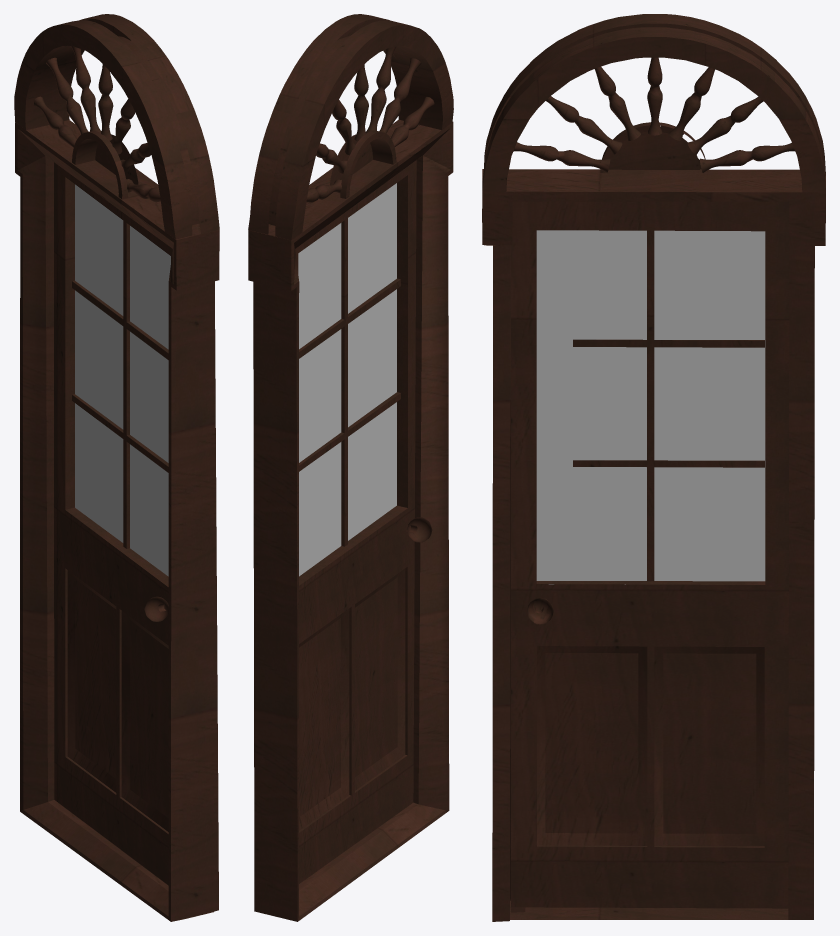
The model's file is balcony_door.fbx.
3 views of the same model, side by side, from view 1: azimuth 30°, elevation 25°; view 2: azimuth 150°, elevation 25°; view 3: azimuth 270°, elevation 25° (orthographic). The views are drawn at different scales.
Visible parts, largest first — view 1: Frame, Leaf, Glass, Arch, Spindles; view 2: Frame, Leaf, Glass, Arch, Spindles; view 3: Leaf, Glass, Frame, Arch, Spindles.
Part boxes in pixels (x1,y1,x2,y2): Frame: [15, 120, 219, 921]; Leaf: [54, 162, 172, 885]; Glass: [75, 184, 170, 576]; Arch: [14, 14, 219, 239]; Spindles: [34, 46, 160, 201]; Frame: [248, 119, 453, 921]; Leaf: [295, 160, 432, 883]; Glass: [298, 183, 396, 576]; Arch: [248, 14, 453, 240]; Spindles: [306, 46, 434, 202]; Leaf: [510, 191, 789, 908]; Glass: [536, 230, 765, 584]; Frame: [482, 169, 825, 921]; Arch: [482, 14, 825, 192]; Spindles: [513, 57, 794, 172].
Size of the model in its own units: 22.1 by 260 by 91.94.
4 materials, 3 textured.
